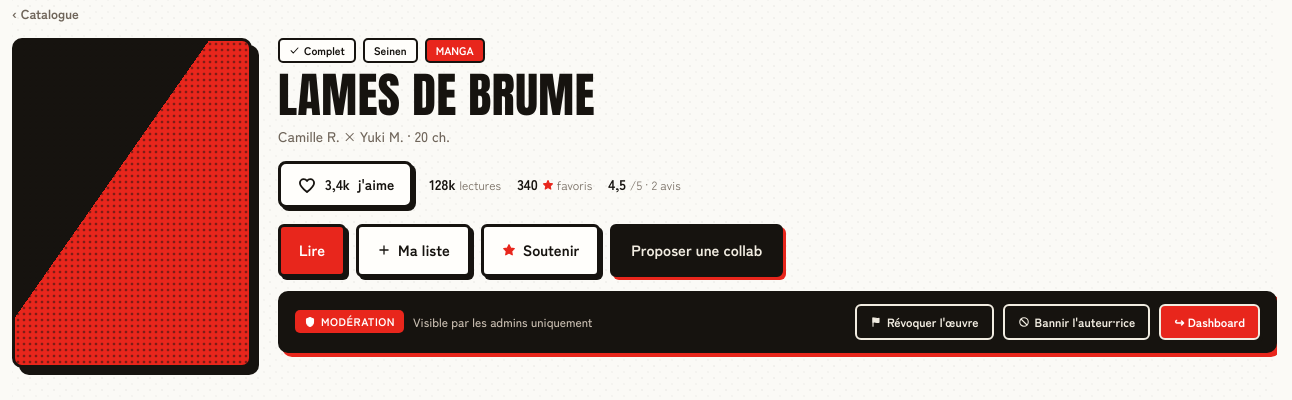
Test: WorkHero (DR-3 FE-2) › authed clicking a personal action shows a "Bientôt disponible" affordance
This screenshot has width=1292, height=400.
Click the button "Soutenir".
click(541, 250)  # box [481,224,600,277]
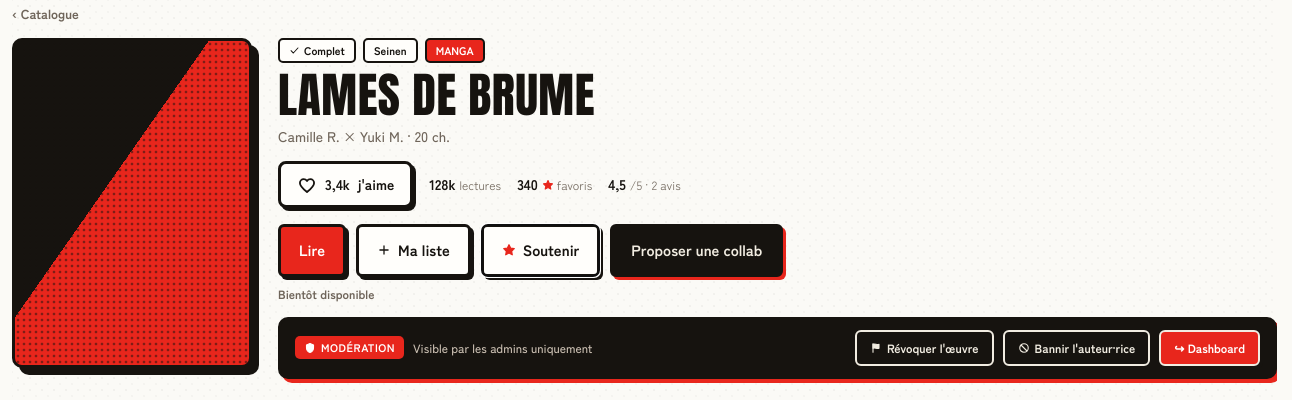
Result: the text "Bientôt disponible" is shown at [278,285,374,302]
